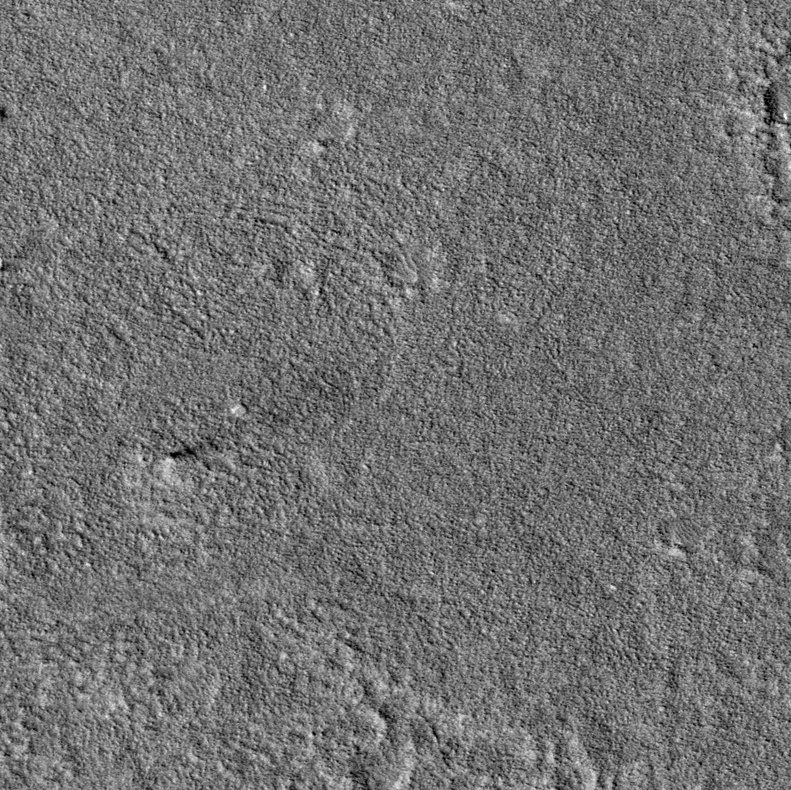dust_devil: (161, 437, 225, 487)
